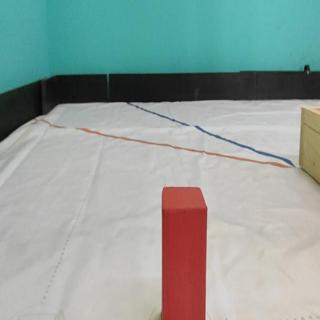redbox: (162, 187, 207, 320)
